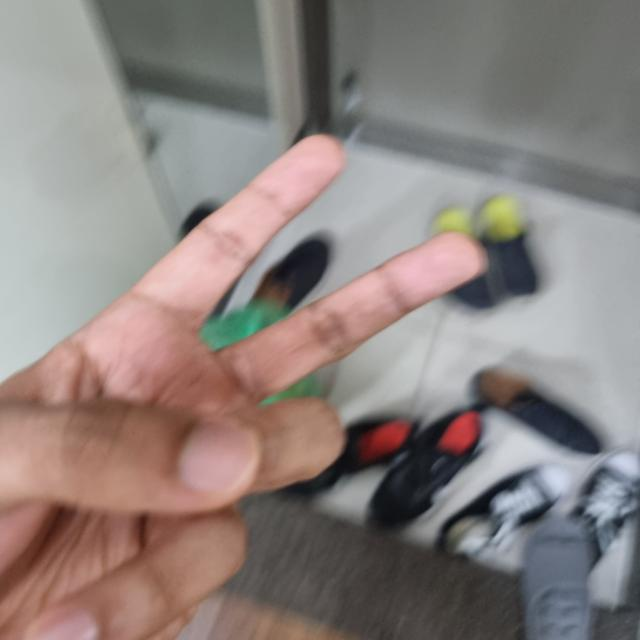Scissors: (0, 132, 484, 640)
